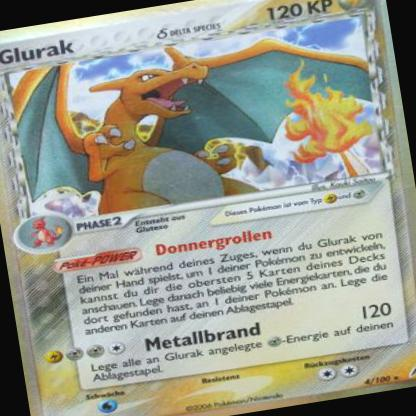Charizard: (8, 19, 378, 216)
